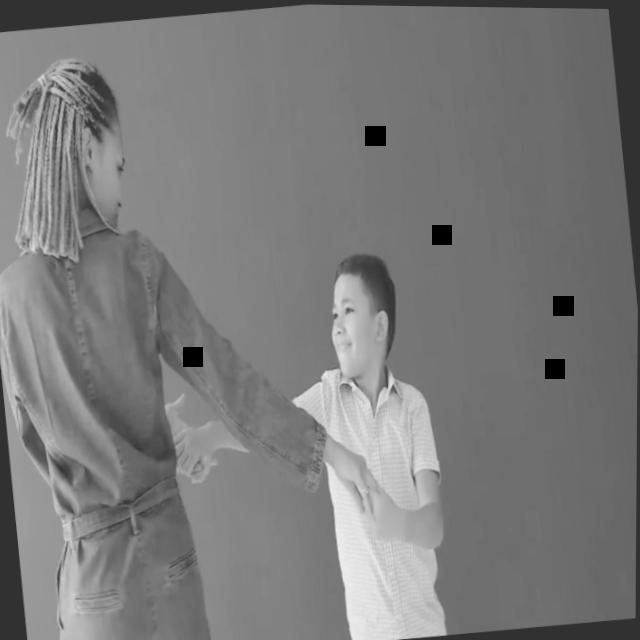NO-Mask: (326, 282, 373, 378), (91, 129, 132, 231)
